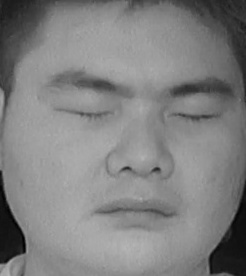blink: (66, 96, 115, 129), (173, 97, 221, 130)
mouth: (94, 186, 180, 233)
